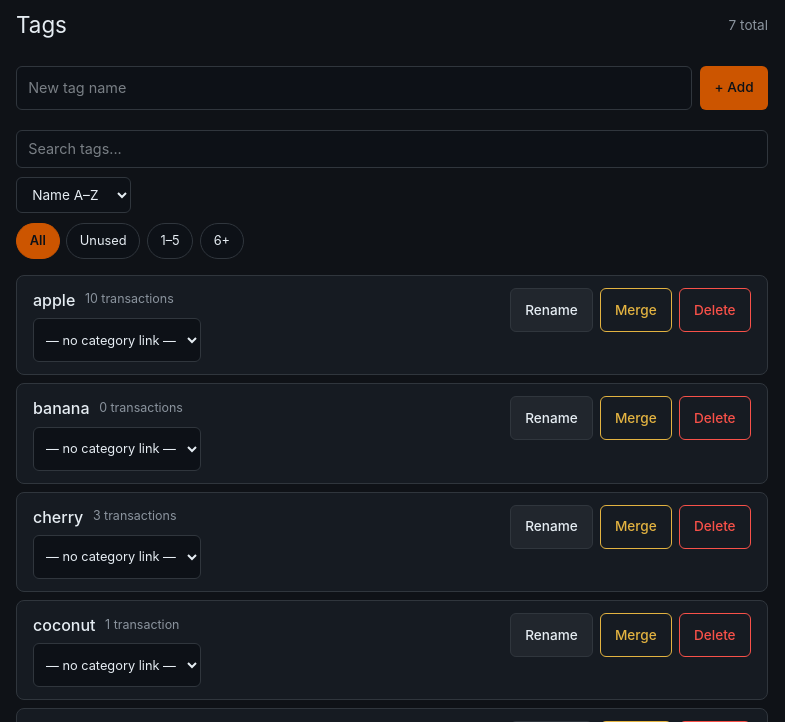
Test: TagsPage — empty state › shows a friendly message when search + filter yield no matches
Click the button with test id "tag-filter-chip-high".
click(222, 241)  # box [200, 223, 244, 259]
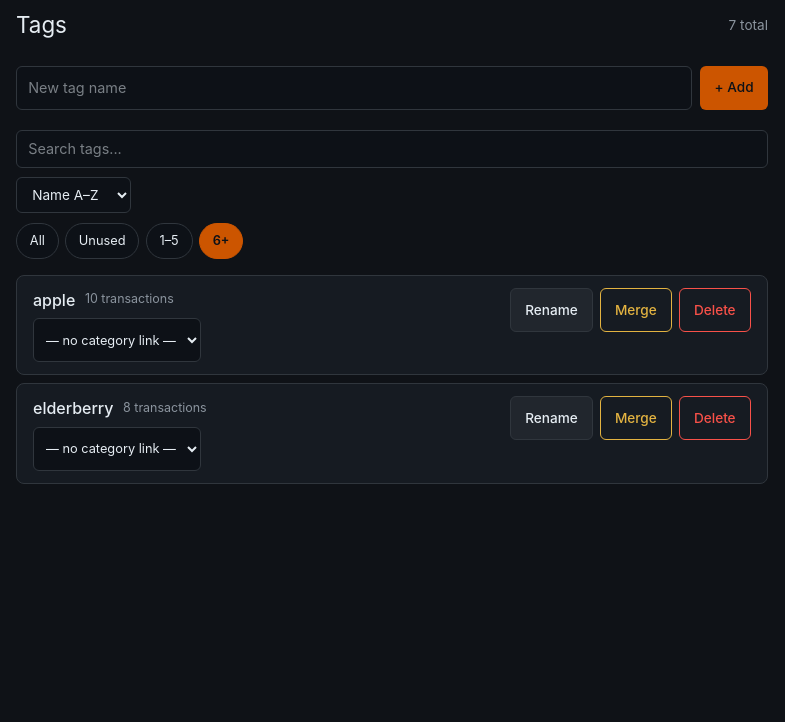
Type "xyz" into the field with placeholder "Search tags...".
click(392, 149); type("xyz")  # box [16, 130, 768, 168]
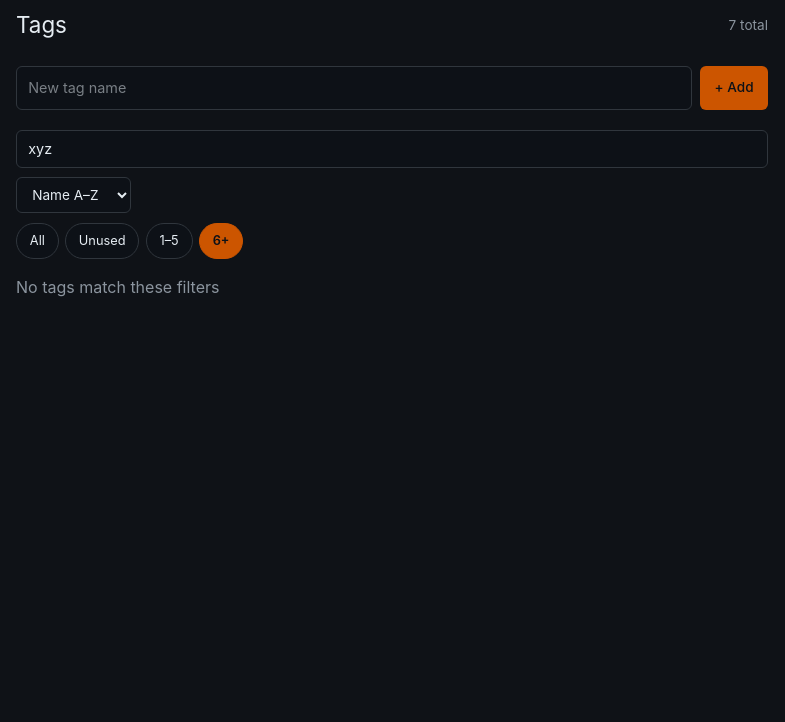
Check: the element with test id "tags-list" is gone
Check: the text "No tags match these filters" is shown, box [16, 277, 220, 297]
